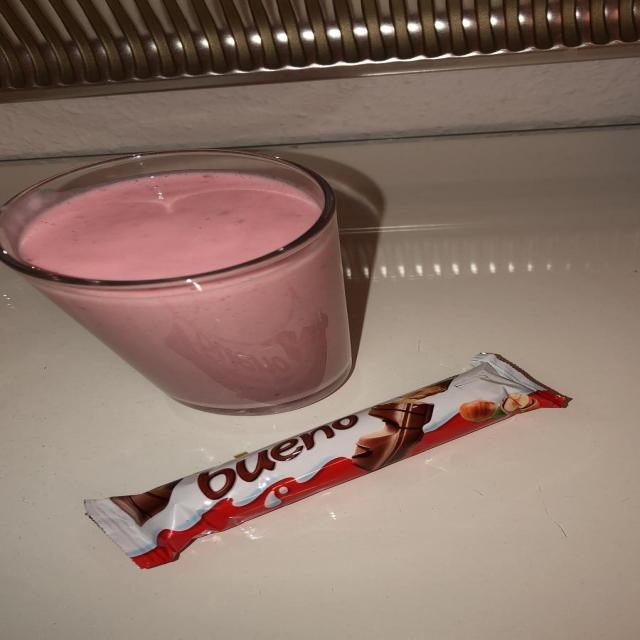glass-normal: (2, 150, 359, 413)
